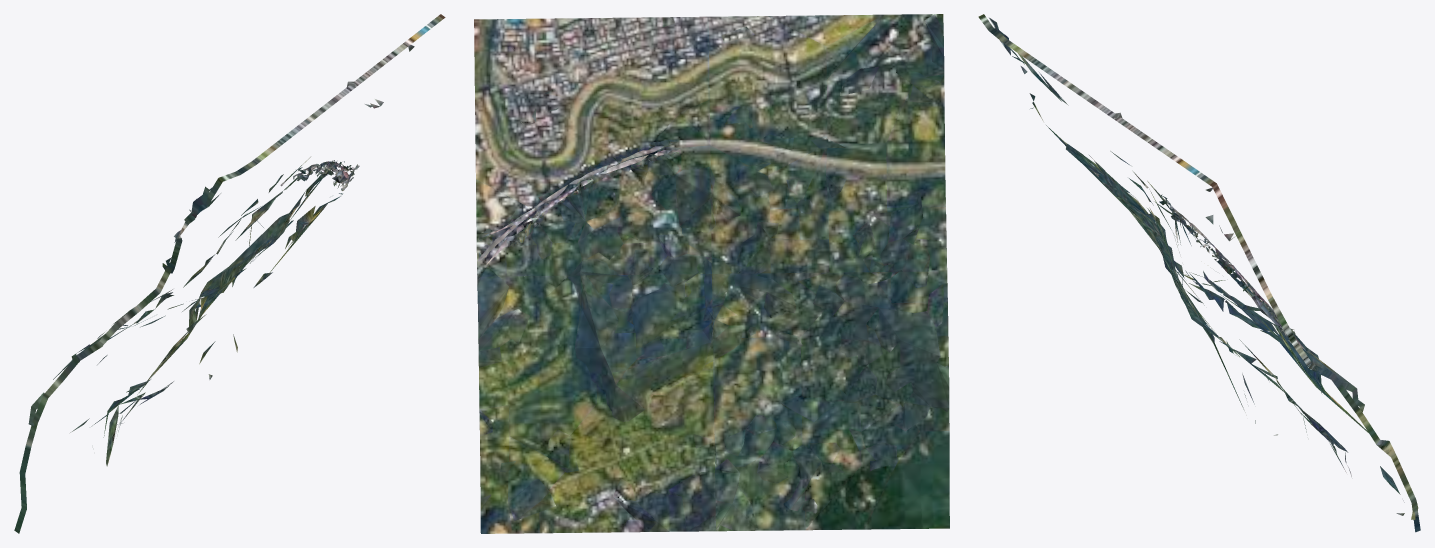
3 renders of one model, left to right at view 1: azimuth 30°, elevation 25°; view 2: azimuth 150°, elevation 25°; view 3: azimuth 270°, elevation 25°, orthographic. The views are drawn at different scales.
Size of the model in its own units: 2520 by 2194 by 2150.
Materials: 1 (1 with a texture image).
